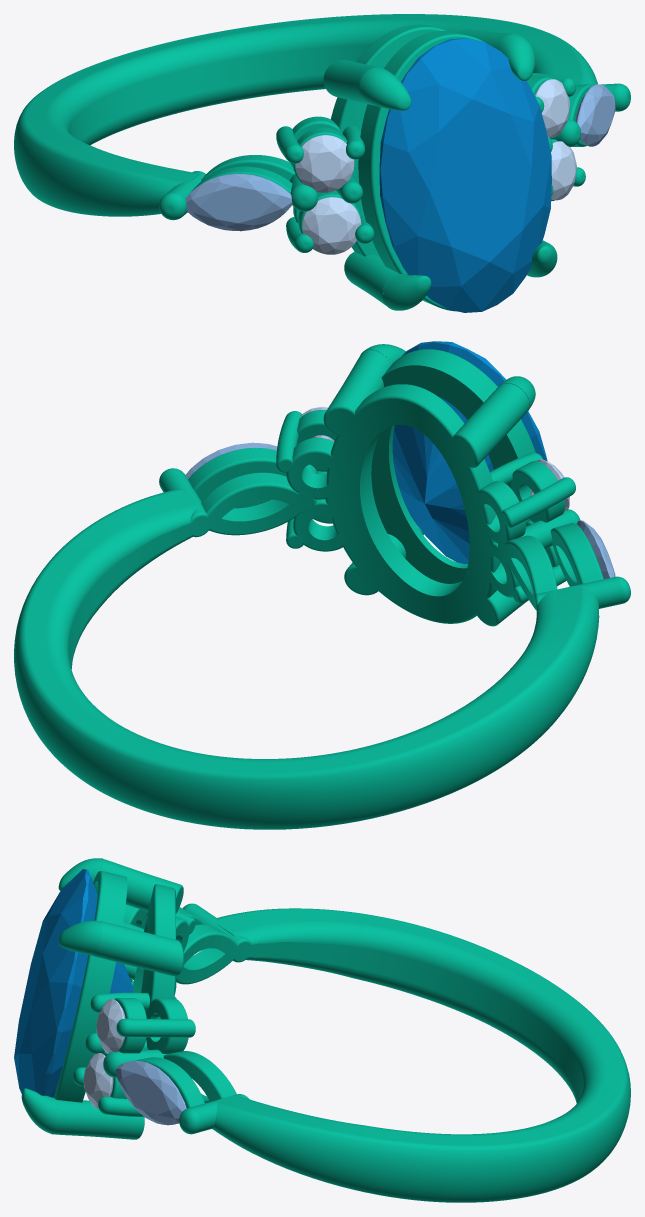
The picture shows the model from 3 angles, top to bottom: view 1: azimuth 30°, elevation 25°; view 2: azimuth 150°, elevation 25°; view 3: azimuth 270°, elevation 25°; orthographic projection. The views are drawn at different scales.
Parts seen in each view (by area): view 1: VR929(base).3dm, Diamond_Oval, Bezel (×7), Diamond_Round (×4), Head Prong (×8), Diamond_Marquise (×2); view 2: VR929(base).3dm, Bezel (×12), Head Prong (×9), Diamond_Oval, Diamond_Marquise; view 3: VR929(base).3dm, Bezel (×7), Head Prong (×8), Diamond_Oval, Diamond_Marquise, Diamond_Round (×2).
Part boxes in pixels (x1,y1,x2,y2): VR929(base).3dm: (14, 14, 597, 310); Diamond_Oval: (379, 38, 551, 312); Bezel (×7): (191, 24, 593, 311); Diamond_Round (×4): (295, 79, 576, 254); Head Prong (×8): (159, 29, 630, 305); Diamond_Marquise (×2): (185, 84, 615, 231); VR929(base).3dm: (14, 344, 599, 829); Bezel (×12): (188, 349, 603, 623); Head Prong (×9): (159, 350, 630, 626); Diamond_Oval: (392, 341, 547, 563); Diamond_Marquise: (576, 520, 615, 579); VR929(base).3dm: (21, 858, 630, 1202); Bezel (×7): (53, 871, 239, 1123); Head Prong (×8): (54, 859, 251, 1139); Diamond_Oval: (14, 869, 133, 1097); Diamond_Marquise: (115, 1060, 186, 1125); Diamond_Round (×2): (83, 999, 125, 1108).
Size of the model in its own units: 2.53 by 1.29 by 2.82.
